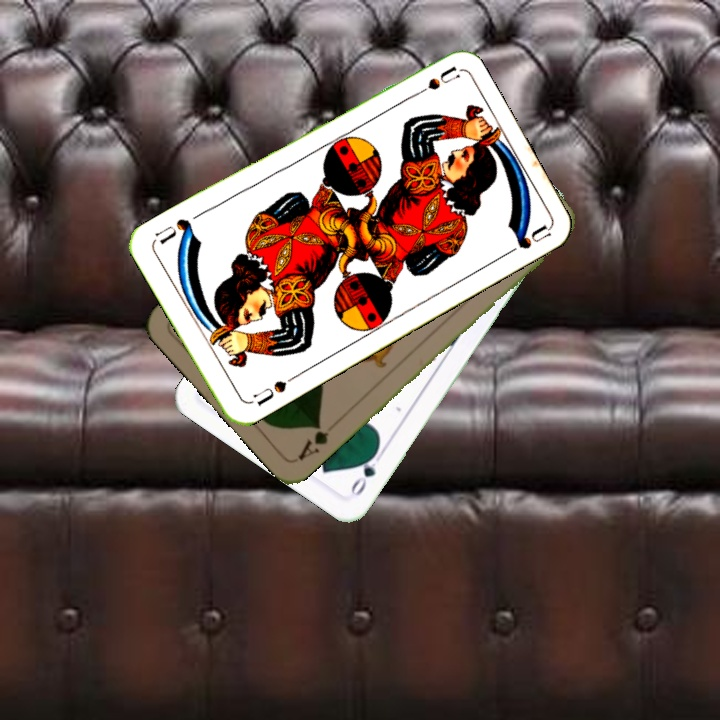GA: (293, 419, 332, 464)
GO: (346, 445, 387, 499)
SU: (404, 63, 460, 102), (249, 371, 299, 409)
